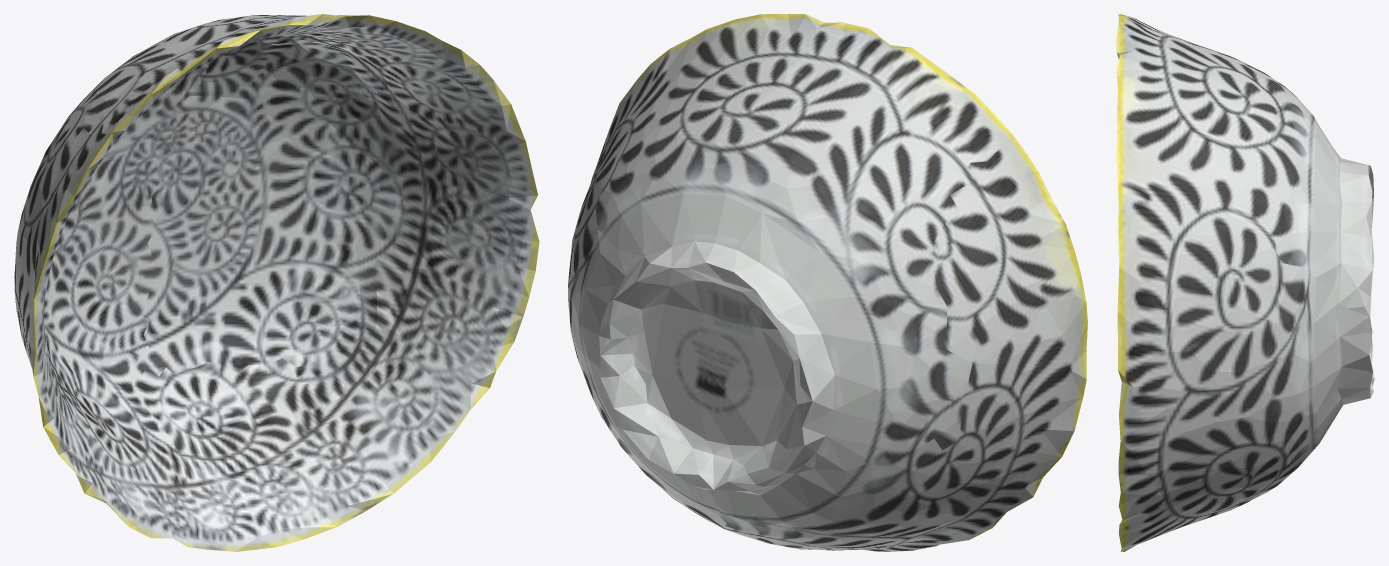
The picture shows the model from 3 angles, left to right: view 1: azimuth 30°, elevation 25°; view 2: azimuth 150°, elevation 25°; view 3: azimuth 270°, elevation 25°; orthographic projection. The views are drawn at different scales.
Size of the model in its own units: 0.1588 by 0.1583 by 0.0759.
Materials: 1 (1 with a texture image).
